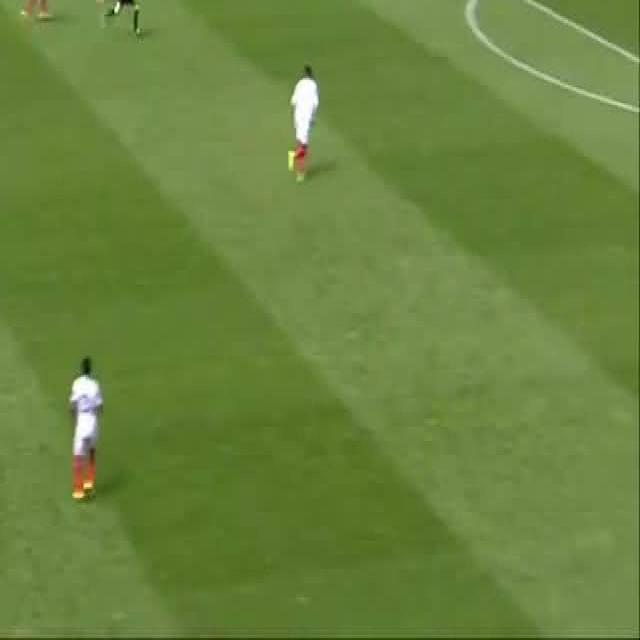player-white: (67, 356, 105, 502), (286, 66, 320, 182), (103, 0, 141, 38), (21, 0, 52, 20), (96, 0, 123, 2)
